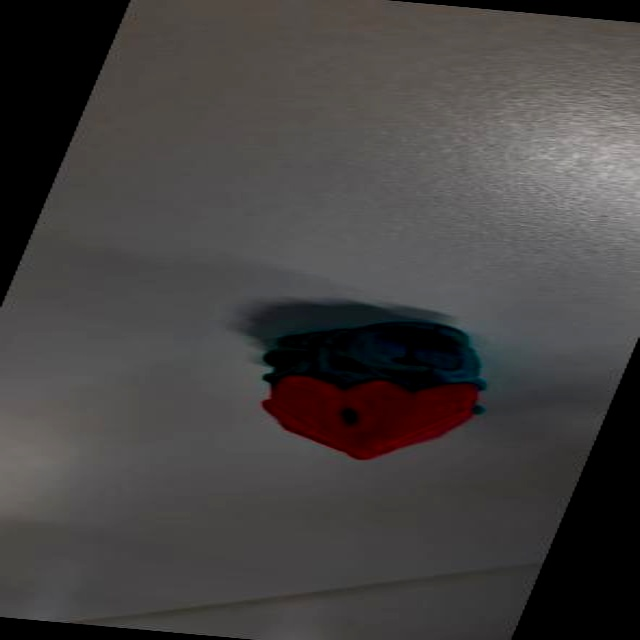House: (194, 306, 520, 478)
